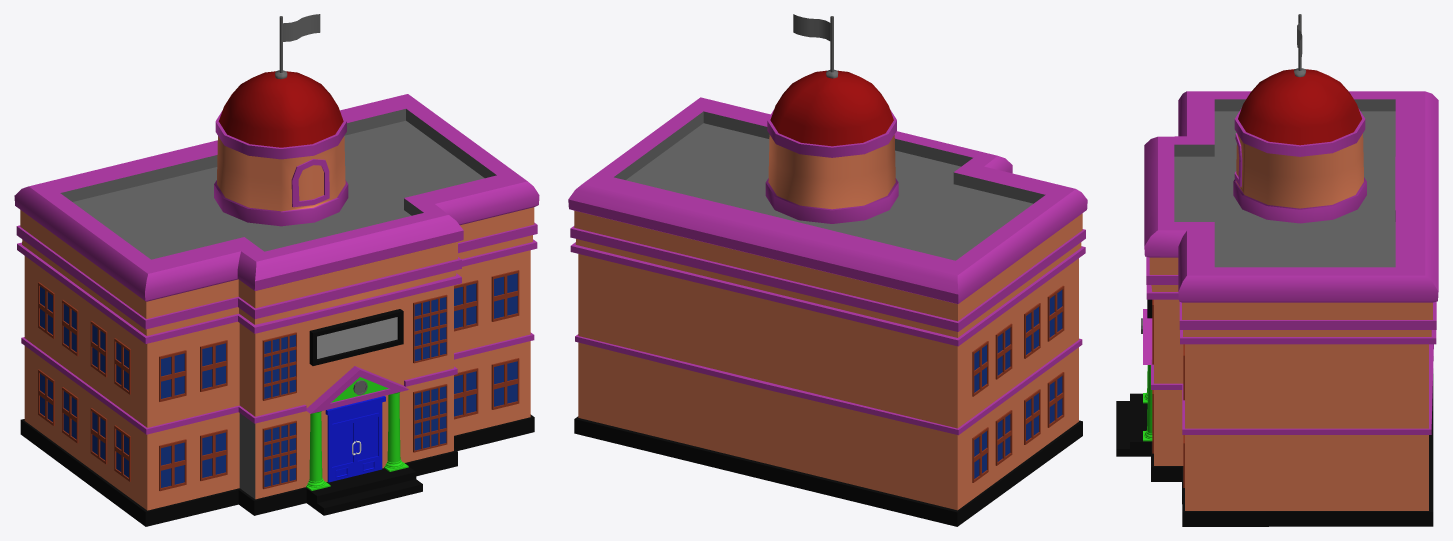
The model's file is TestAsset.FBX.
The picture shows the model from 3 angles, left to right: view 1: azimuth 30°, elevation 25°; view 2: azimuth 150°, elevation 25°; view 3: azimuth 270°, elevation 25°; orthographic projection.
Parts seen in each view (by area): view 1: polySurface81; view 2: polySurface81; view 3: polySurface81.
Part boxes in pixels (<box>): polySurface81: <box>14,14,539,526</box>; polySurface81: <box>568,14,1087,526</box>; polySurface81: <box>1116,14,1438,526</box>.
Size of the model in its own units: 2222 by 2258 by 1578.
